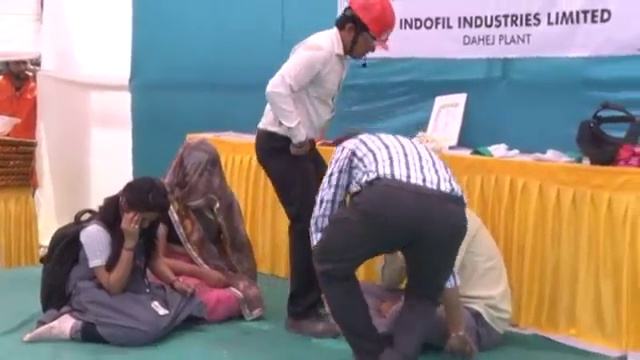helmet: (346, 1, 396, 51)
helmet_off: (170, 143, 226, 213), (110, 179, 174, 227), (2, 49, 29, 85)
helmet_on: (337, 2, 396, 65)
person: (260, 1, 396, 337), (307, 133, 469, 359), (18, 180, 205, 347), (149, 132, 263, 322), (376, 211, 513, 355), (0, 57, 44, 141)
